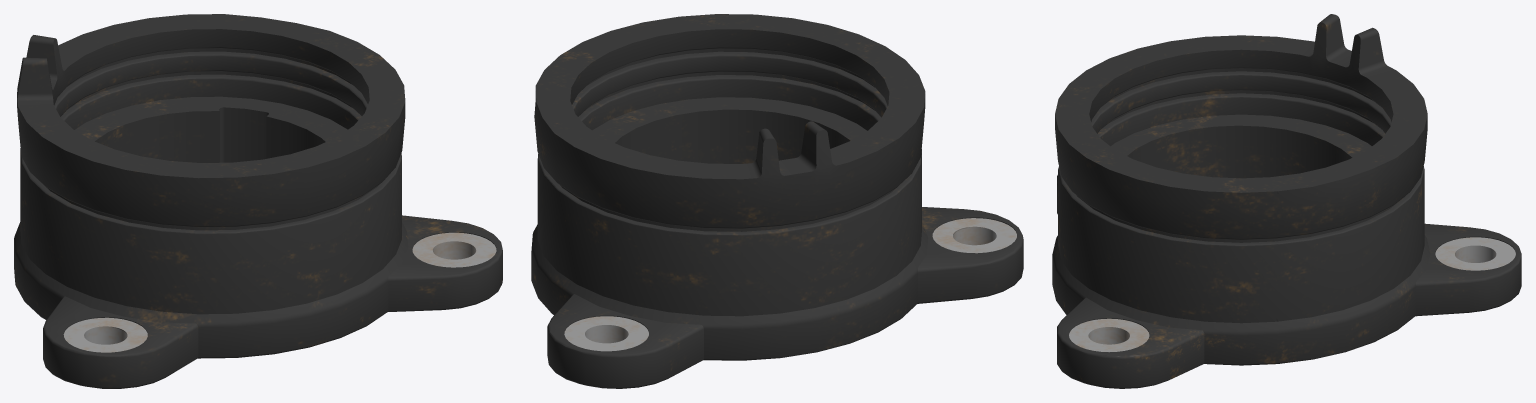
The model's file is intakeManifold.glb.
3 views of the same model, side by side, from view 1: azimuth 30°, elevation 25°; view 2: azimuth 150°, elevation 25°; view 3: azimuth 270°, elevation 25° (orthographic). The views are drawn at different scales.
Visible parts, largest first — view 1: intakeManifold; view 2: intakeManifold; view 3: intakeManifold.
Part boxes in pixels (x1,y1,x2,y2): intakeManifold: (14, 14, 502, 388); intakeManifold: (531, 14, 1023, 388); intakeManifold: (1052, 14, 1521, 388).
Bounding box in the file's own units: 2.59 × 1.21 × 2.48.
1 material, 1 textured.
